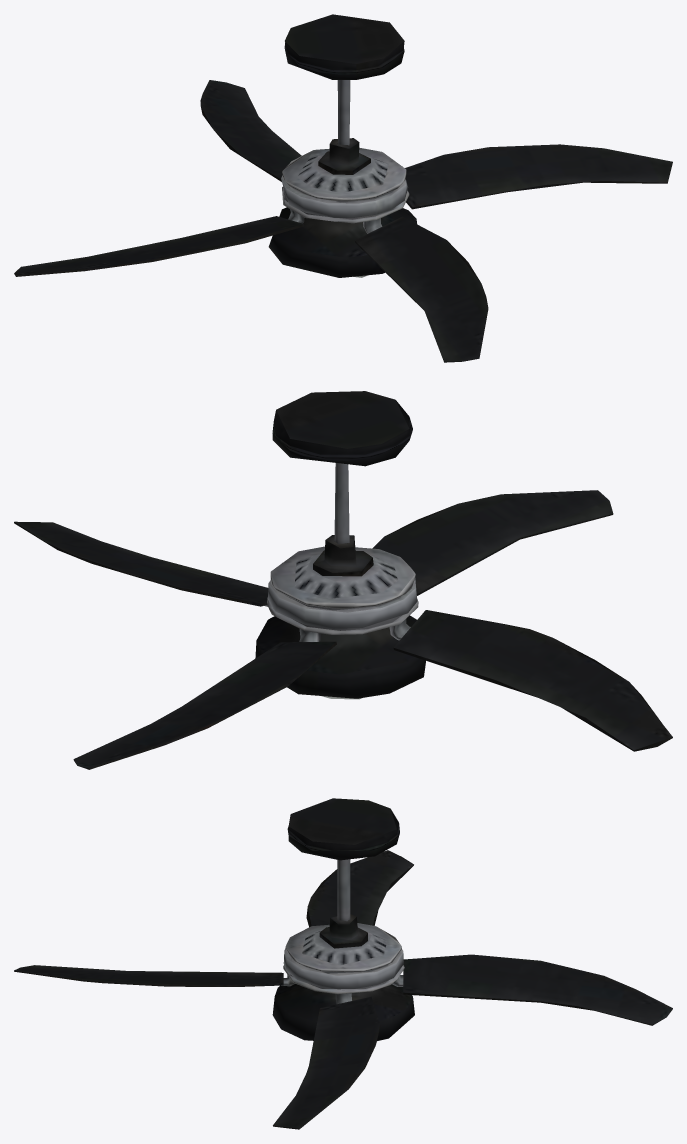
Rendered from ceiling_fan.glb.
The picture shows the model from 3 angles, top to bottom: view 1: azimuth 30°, elevation 25°; view 2: azimuth 150°, elevation 25°; view 3: azimuth 270°, elevation 25°; orthographic projection. The views are drawn at different scales.
Visible parts, largest first — view 1: ceiling_fan_blades, ceiling_fan; view 2: ceiling_fan_blades, ceiling_fan; view 3: ceiling_fan_blades, ceiling_fan.
Boxes of the visible parts, bbox=[...] form: ceiling_fan_blades: bbox=[14, 80, 672, 362]; ceiling_fan: bbox=[268, 14, 416, 277]; ceiling_fan_blades: bbox=[14, 490, 672, 769]; ceiling_fan: bbox=[255, 391, 425, 699]; ceiling_fan_blades: bbox=[14, 850, 672, 1129]; ceiling_fan: bbox=[272, 798, 414, 1040].
Bounding box in the file's own units: 1.46 × 0.5137 × 1.46.
Materials: 1 (1 with a texture image).
